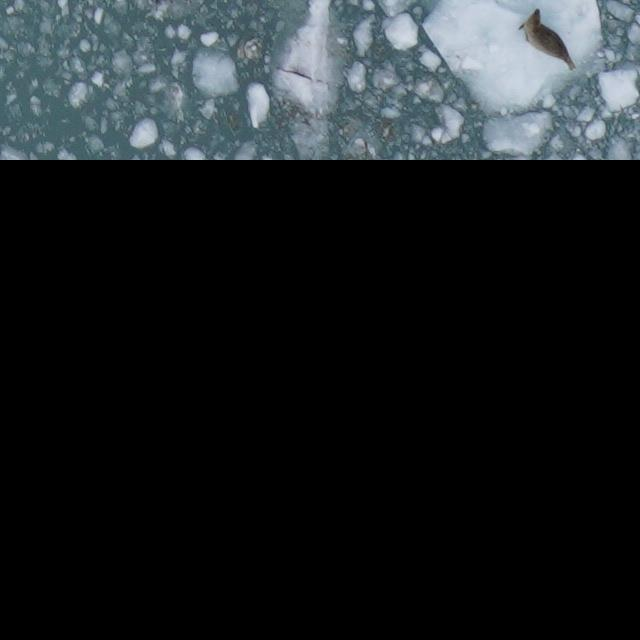seal: (515, 7, 578, 74)
